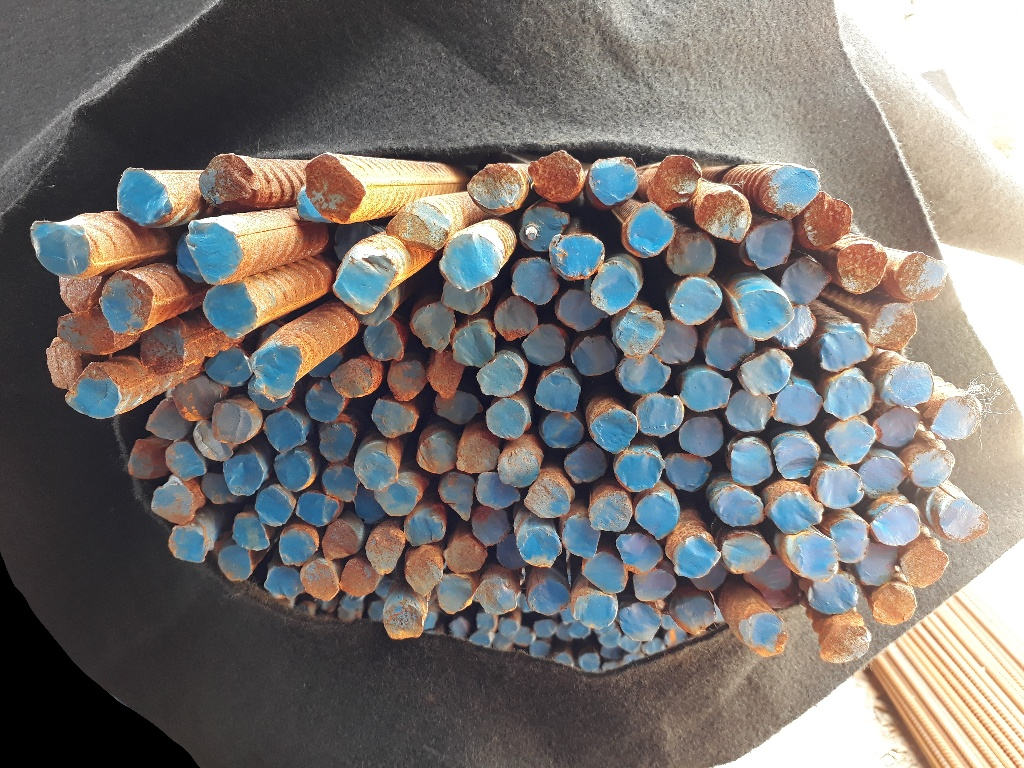dipstick: (306, 154, 366, 222), (336, 253, 397, 314), (29, 221, 91, 279), (189, 220, 243, 284), (100, 271, 153, 334), (65, 363, 121, 420), (117, 167, 171, 225), (442, 235, 501, 288), (735, 289, 795, 340), (203, 285, 258, 338), (388, 203, 448, 251), (200, 152, 254, 204), (252, 343, 303, 397), (766, 166, 819, 217), (467, 163, 521, 211), (806, 191, 851, 248), (698, 189, 748, 240), (839, 243, 887, 292), (531, 154, 582, 200), (747, 220, 794, 269), (821, 324, 870, 371), (627, 203, 672, 254), (784, 256, 832, 303), (58, 312, 114, 352), (617, 309, 663, 357), (824, 374, 873, 419), (770, 491, 823, 532), (409, 303, 455, 350), (897, 255, 943, 302), (786, 535, 837, 577), (212, 399, 259, 444), (673, 278, 720, 323), (870, 301, 915, 348), (173, 376, 221, 420), (886, 363, 934, 407), (552, 235, 602, 277), (139, 328, 183, 375), (934, 394, 981, 438), (594, 262, 637, 310), (591, 157, 637, 201), (152, 478, 195, 525), (669, 233, 716, 276), (742, 351, 790, 393), (774, 385, 823, 426), (591, 407, 636, 451), (828, 420, 875, 462), (942, 499, 989, 541), (872, 505, 921, 545), (225, 446, 264, 496), (675, 535, 720, 577), (657, 157, 699, 202), (731, 441, 773, 486), (205, 347, 252, 387), (860, 457, 908, 496), (619, 356, 669, 393), (665, 453, 712, 492), (636, 494, 678, 537), (478, 357, 523, 397), (559, 290, 604, 330), (728, 391, 773, 431), (683, 372, 730, 410), (406, 546, 443, 594), (616, 534, 664, 571), (45, 339, 81, 388), (148, 397, 190, 439), (515, 259, 557, 301), (774, 435, 816, 477), (536, 370, 580, 410), (721, 536, 771, 571), (372, 398, 418, 436), (901, 549, 947, 587), (717, 488, 764, 525), (619, 601, 662, 641), (494, 297, 537, 337), (680, 417, 723, 457), (638, 396, 682, 435), (475, 472, 520, 510), (817, 469, 862, 507), (746, 555, 791, 593), (808, 580, 858, 614), (822, 626, 869, 662), (129, 439, 172, 478), (518, 528, 561, 567), (582, 554, 626, 592), (572, 336, 616, 374), (875, 408, 919, 446), (911, 450, 955, 488), (831, 517, 867, 563), (263, 413, 304, 453), (363, 321, 404, 361), (387, 361, 428, 401), (355, 451, 398, 489), (619, 453, 663, 490), (780, 305, 817, 349), (429, 351, 465, 396), (340, 558, 380, 598), (306, 381, 346, 421), (486, 399, 527, 438), (367, 532, 405, 574), (523, 210, 565, 248), (525, 480, 568, 517), (705, 321, 737, 370), (194, 421, 233, 461), (167, 441, 206, 481), (256, 486, 295, 526), (301, 561, 340, 601), (659, 324, 698, 364), (860, 545, 899, 585), (418, 432, 456, 473), (471, 505, 509, 546), (453, 327, 494, 365), (444, 536, 486, 573), (321, 520, 360, 559), (383, 602, 423, 640), (591, 493, 631, 531), (566, 444, 606, 482), (435, 391, 481, 424), (457, 437, 499, 473), (442, 473, 474, 520), (475, 577, 515, 614), (749, 616, 786, 656), (333, 362, 374, 398), (676, 597, 717, 633), (442, 282, 488, 314), (564, 515, 599, 557), (873, 586, 915, 621), (169, 525, 206, 564), (274, 452, 310, 492), (543, 411, 583, 447), (527, 325, 563, 365), (528, 580, 570, 614), (279, 528, 318, 564), (574, 594, 615, 628), (438, 575, 473, 614), (265, 566, 305, 600), (377, 482, 417, 516), (58, 278, 100, 310), (405, 514, 446, 546), (296, 492, 338, 523), (233, 515, 270, 550), (320, 424, 355, 461), (499, 452, 536, 487), (200, 471, 238, 505), (323, 466, 359, 501), (634, 571, 676, 601), (218, 546, 252, 582), (497, 535, 526, 570), (356, 494, 385, 521)
